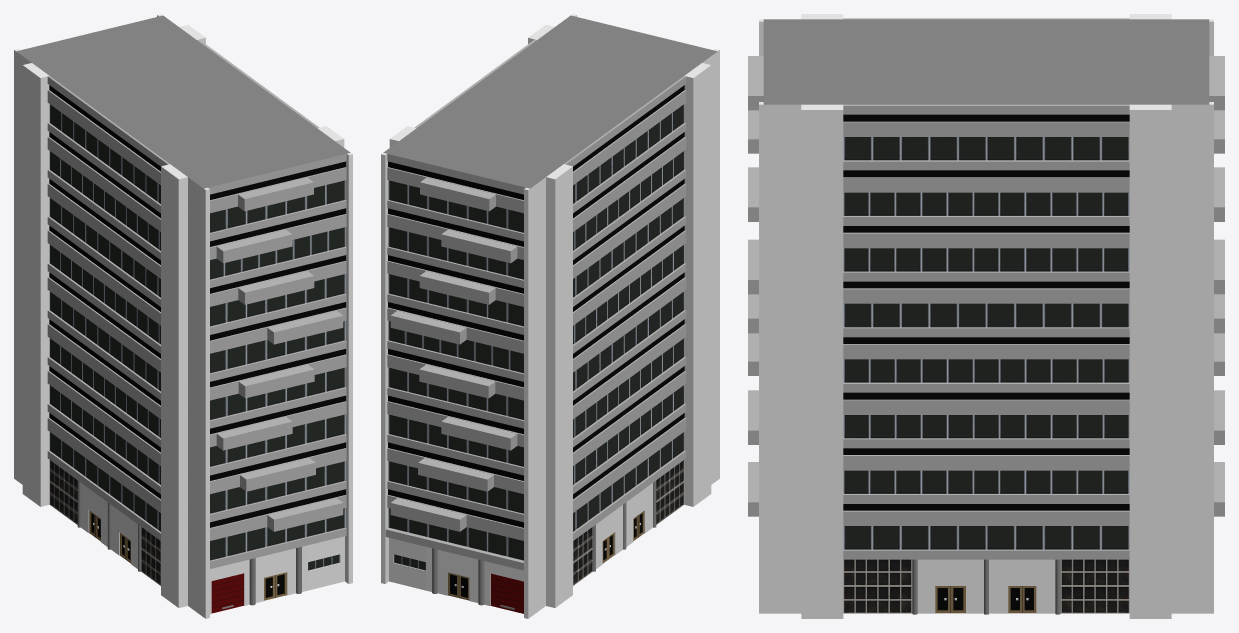
3 views of the same model, side by side, from view 1: azimuth 30°, elevation 25°; view 2: azimuth 150°, elevation 25°; view 3: azimuth 270°, elevation 25° (orthographic). The views are drawn at different scales.
Parts seen in each view (by area): view 1: M-003; view 2: M-003; view 3: M-003.
Part boxes in pixels (x1=…): M-003: x1=14, y1=14, x2=352, y2=618; M-003: x1=381, y1=14, x2=719, y2=618; M-003: x1=748, y1=14, x2=1224, y2=618.
Size of what is drawn, in the model's own units: 18.49 by 45.8 by 38.87.
